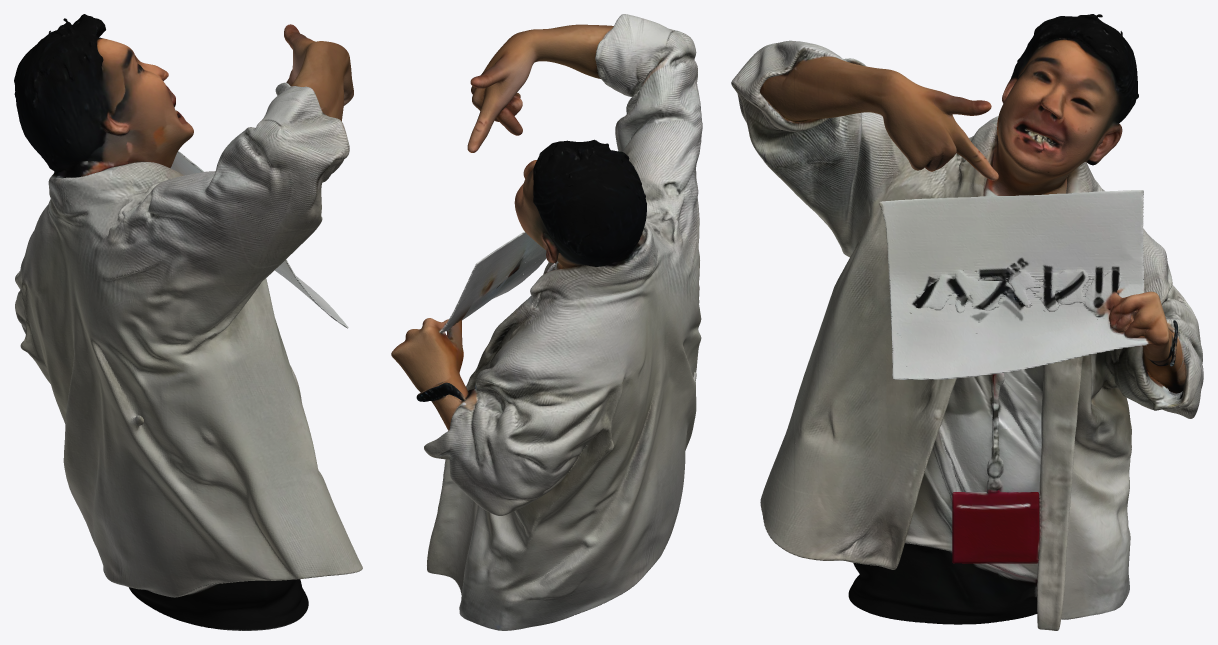
3 renders of one model, left to right at view 1: azimuth 30°, elevation 25°; view 2: azimuth 150°, elevation 25°; view 3: azimuth 270°, elevation 25°, orthographic. The views are drawn at different scales.
Visible parts, largest first — view 1: tripo_node_bb4bf99e-493b-46bf-8a2c-bc1834ce443a; view 2: tripo_node_bb4bf99e-493b-46bf-8a2c-bc1834ce443a; view 3: tripo_node_bb4bf99e-493b-46bf-8a2c-bc1834ce443a.
Boxes of the visible parts, x1,y1,x2,y2 form: tripo_node_bb4bf99e-493b-46bf-8a2c-bc1834ce443a: (14, 14, 362, 630); tripo_node_bb4bf99e-493b-46bf-8a2c-bc1834ce443a: (391, 14, 702, 630); tripo_node_bb4bf99e-493b-46bf-8a2c-bc1834ce443a: (731, 14, 1203, 630).
Bounding box in the file's own units: 0.4773 × 1 × 0.7742.
Materials: 1 (1 with a texture image).
